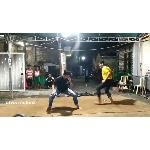Celurit: (48, 90, 60, 103)
